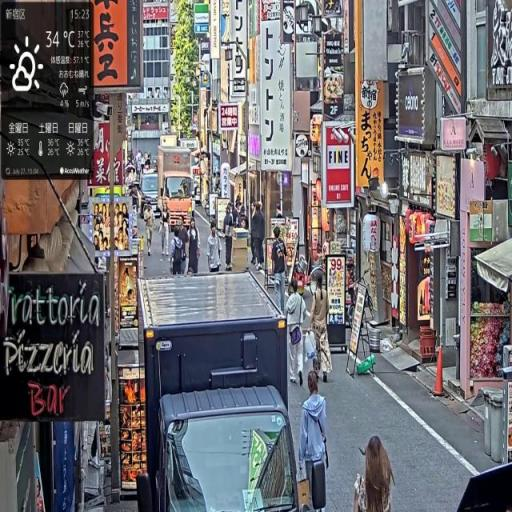person: (300, 367, 331, 512), (351, 436, 397, 512), (308, 273, 335, 386), (272, 227, 289, 317), (251, 202, 267, 273), (223, 203, 236, 274), (187, 216, 201, 278), (209, 222, 224, 278), (161, 197, 172, 257), (145, 204, 155, 258)
